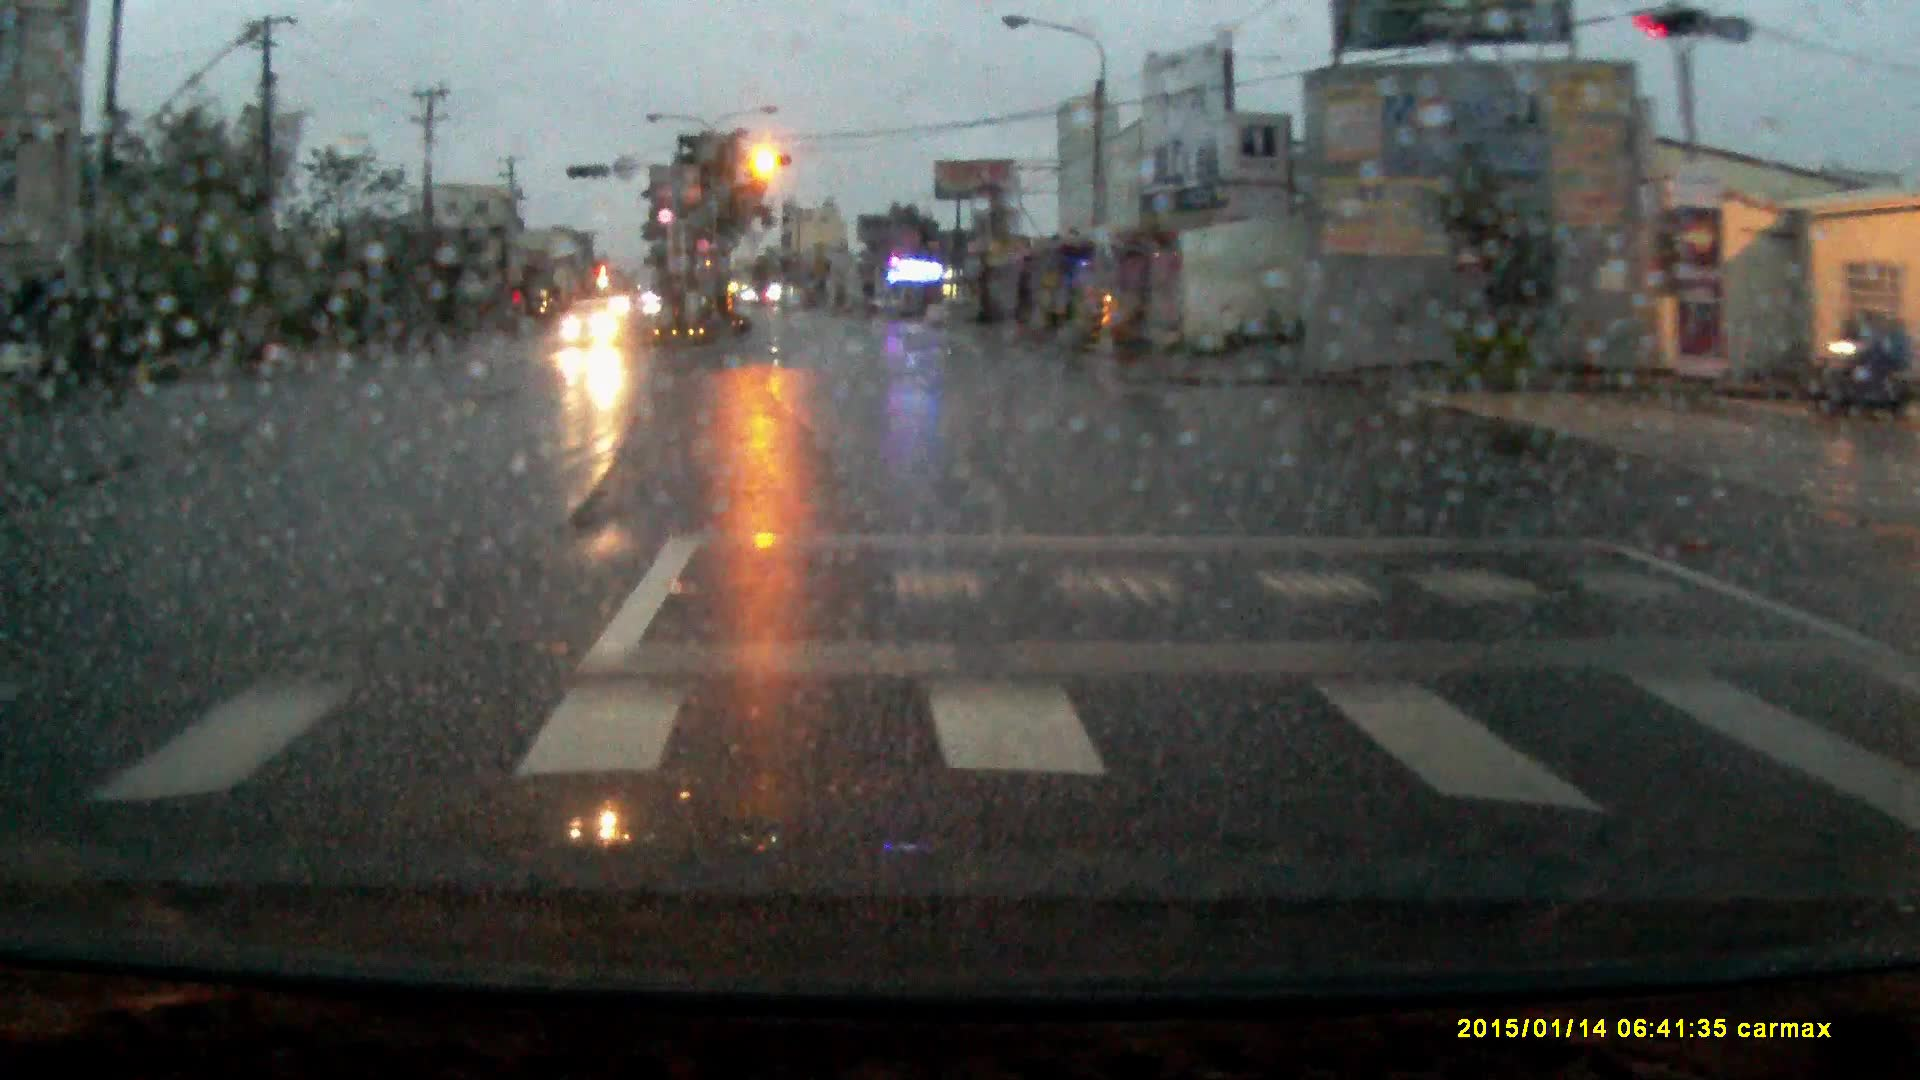rider: (1809, 294, 1910, 420)
vehicle: (558, 296, 625, 343)
